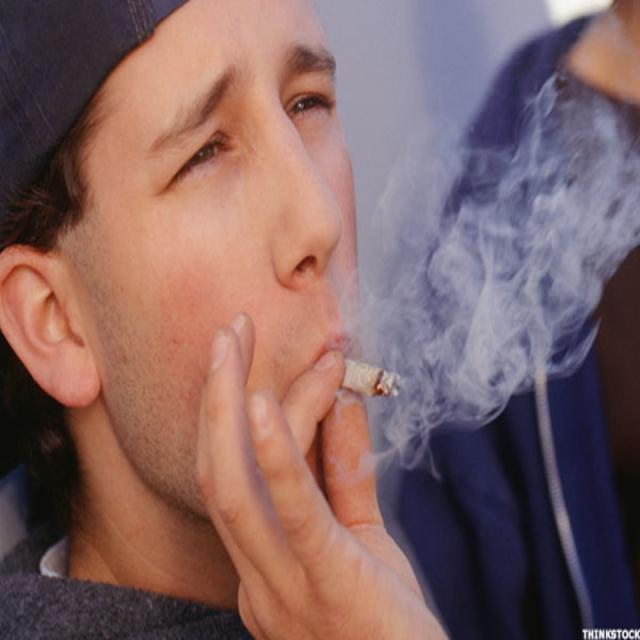smoke: (333, 356, 405, 406)
